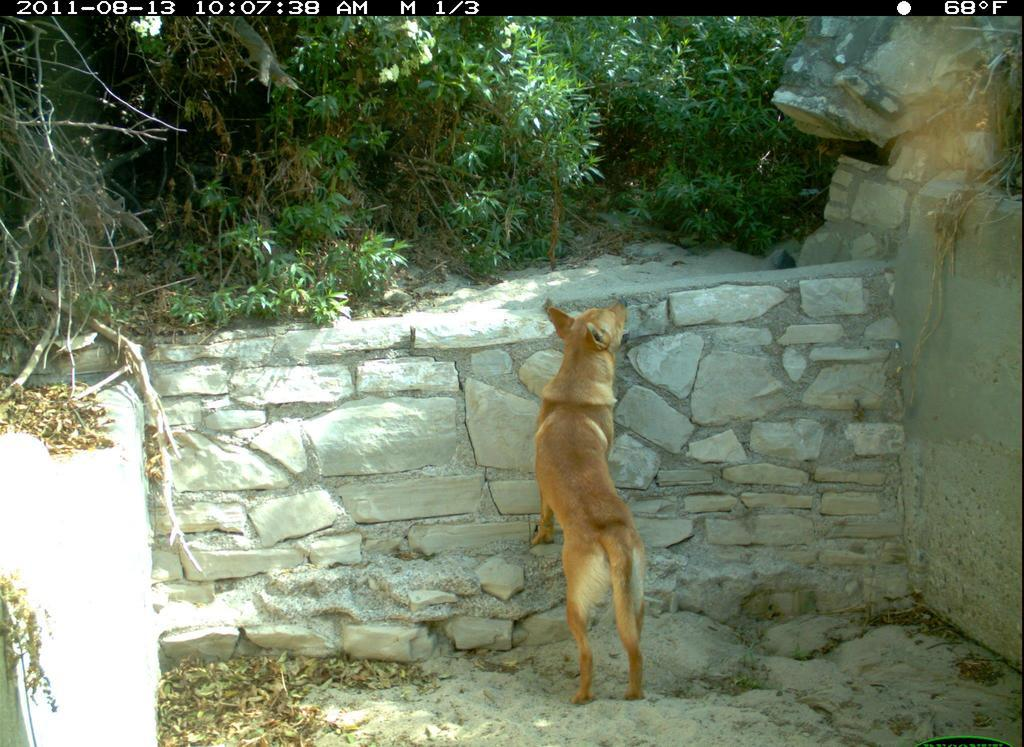dog: (521, 289, 656, 725)
